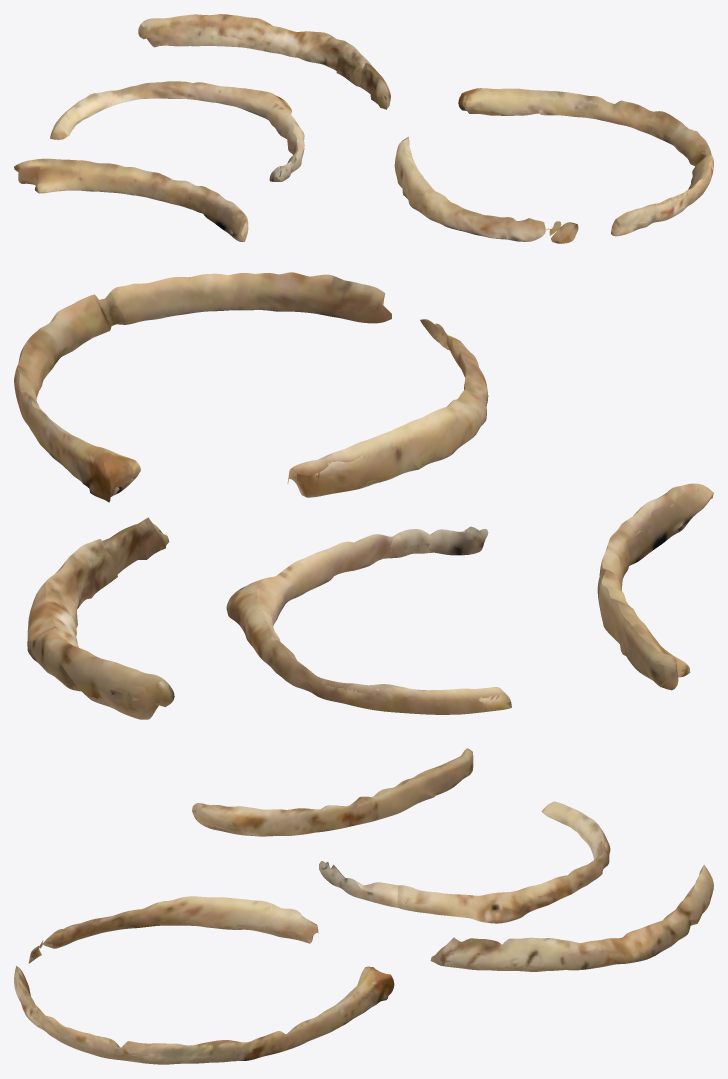
File: shell-bracelets.glb
The picture shows the model from 3 angles, top to bottom: view 1: azimuth 30°, elevation 25°; view 2: azimuth 150°, elevation 25°; view 3: azimuth 270°, elevation 25°; orthographic projection. The views are drawn at different scales.
Parts seen in each view (by area): view 1: model_Lawrence 2017-1 shell bracelets _20241125_122443127.ob; view 2: model_Lawrence 2017-1 shell bracelets _20241125_122443127.ob; view 3: model_Lawrence 2017-1 shell bracelets _20241125_122443127.ob.
Part boxes in pixels (left/top/right/bottom): model_Lawrence 2017-1 shell bracelets _20241125_122443127.ob: left=14, top=14, right=713, bottom=243; model_Lawrence 2017-1 shell bracelets _20241125_122443127.ob: left=14, top=272, right=713, bottom=719; model_Lawrence 2017-1 shell bracelets _20241125_122443127.ob: left=14, top=748, right=713, bottom=1064.
Size of the model in its own units: 132 by 7.19 by 131.
Materials: 1 (1 with a texture image).
